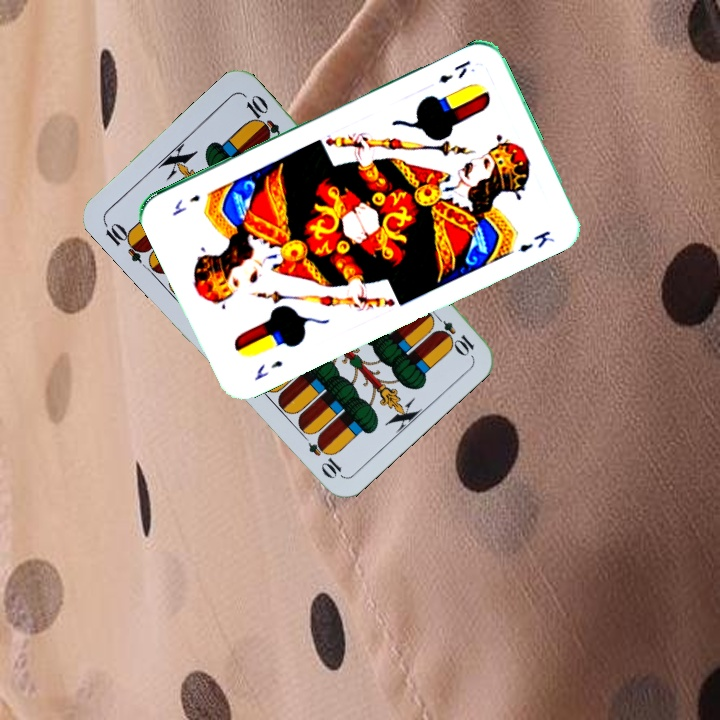E10: (99, 218, 151, 265), (428, 309, 477, 358)
EK: (434, 56, 473, 86), (250, 356, 286, 383)
